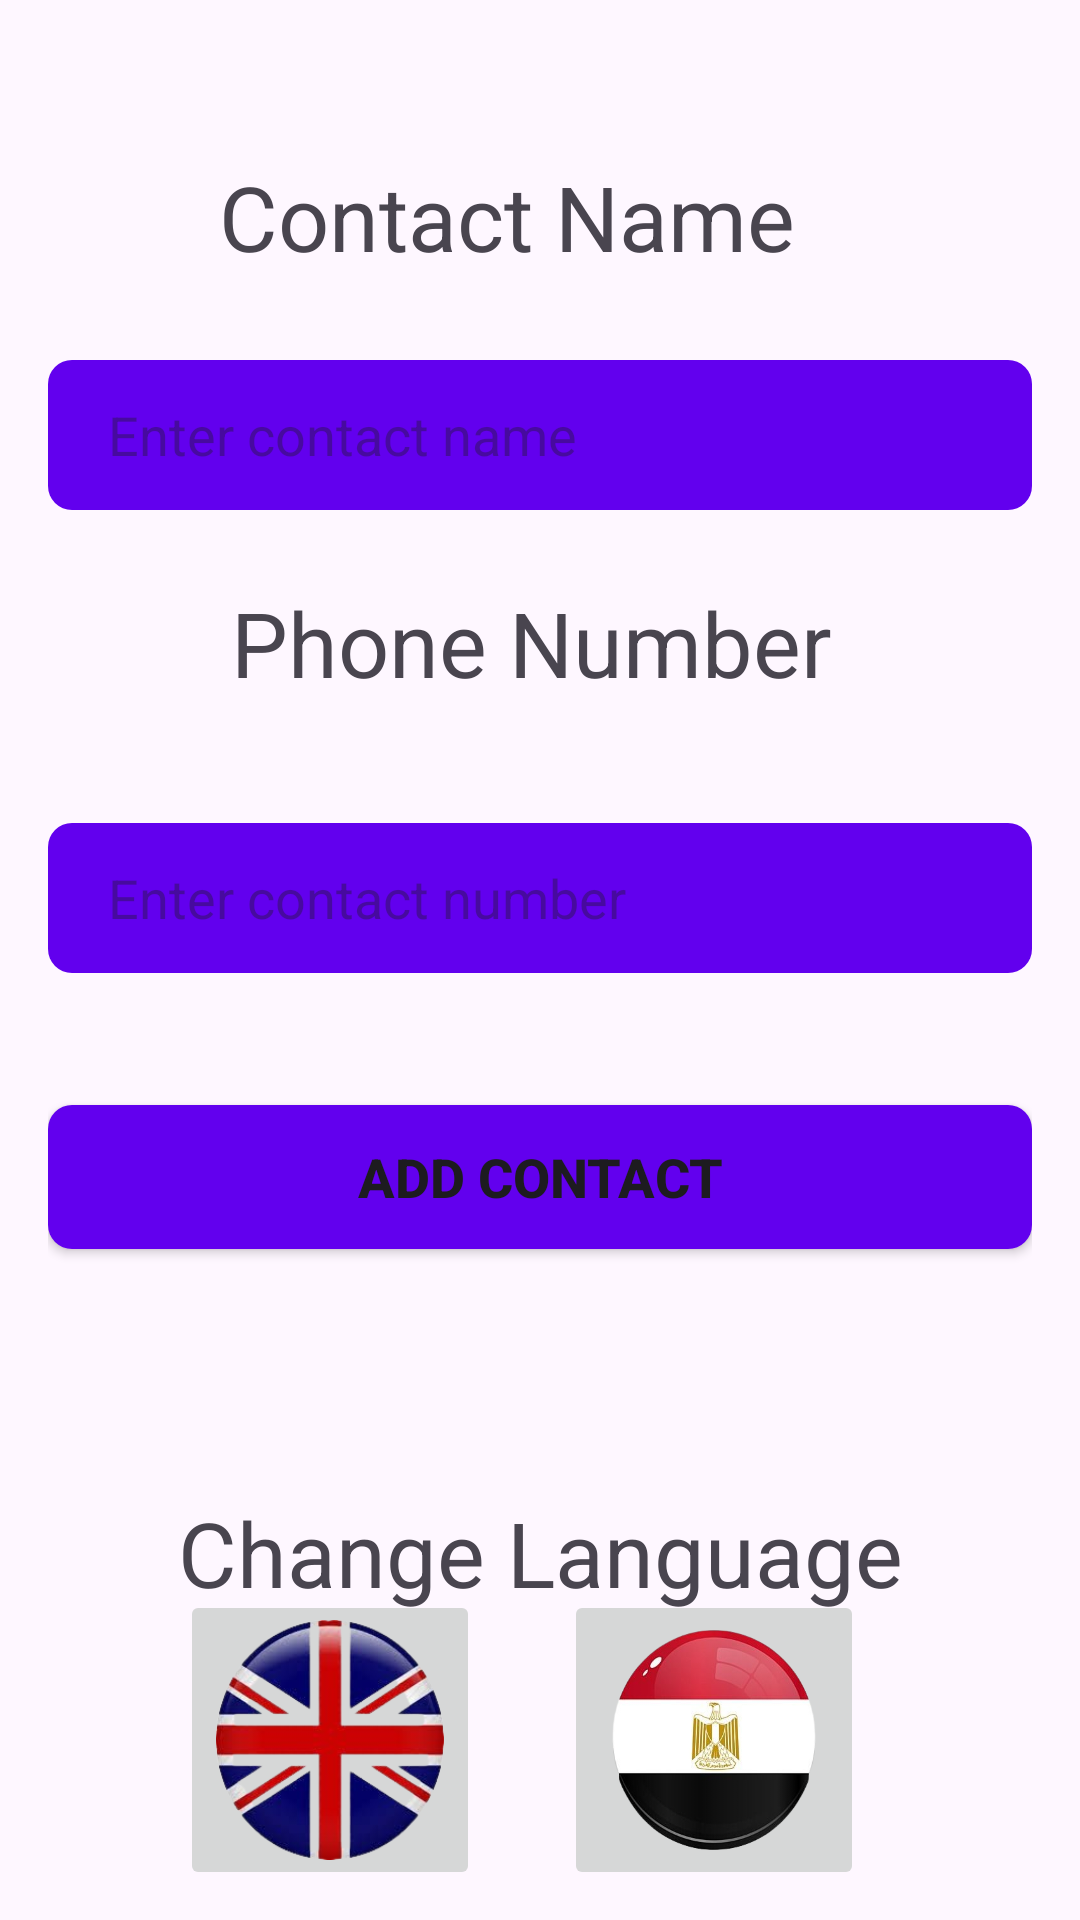

Screen size 1080 x 1920. Icon name, then its box in pixels as (x1, y1, x2, y2):
english: (192, 1608, 468, 1872)
